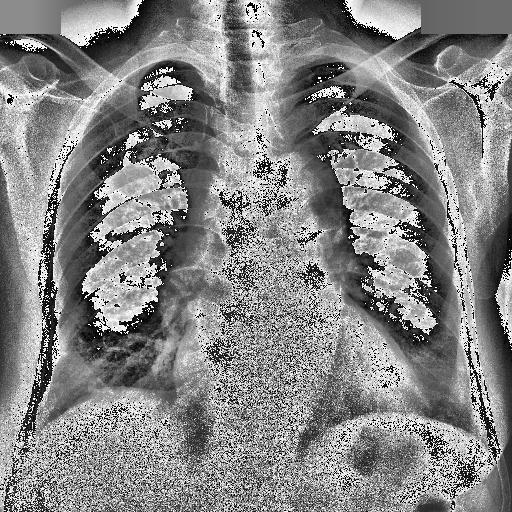0- Aortic enlargement: (269, 153, 351, 263), (264, 150, 347, 242), (264, 158, 344, 248)
3- Cardiomegaly: (174, 324, 432, 418), (171, 350, 430, 418)
7- Lung Opacity: (29, 357, 97, 438)
9- Other lesion: (29, 357, 97, 438)
